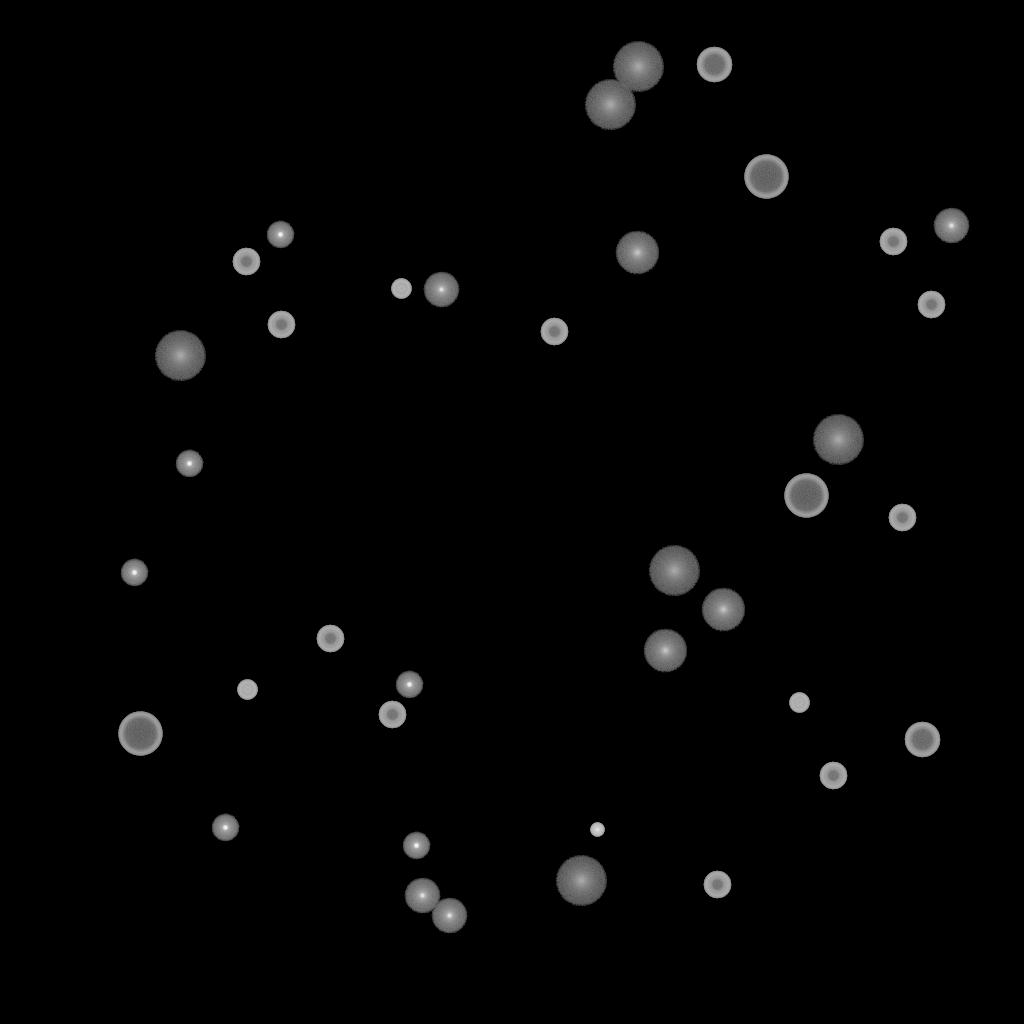depth:-10: (402, 832, 430, 860), (266, 221, 294, 249), (175, 450, 203, 478), (120, 559, 148, 587), (395, 671, 423, 699), (211, 814, 239, 842)
depth:-30: (590, 823, 604, 837)
depth:-40: (789, 693, 809, 713), (237, 680, 257, 700), (391, 279, 411, 299)
depth:-50: (819, 762, 847, 790), (316, 625, 344, 653), (879, 228, 907, 256), (267, 311, 295, 339), (232, 248, 260, 276), (888, 504, 916, 532), (917, 291, 945, 319), (540, 318, 568, 346), (703, 871, 731, 899), (378, 701, 406, 729)
depth:-60: (904, 722, 940, 758), (696, 47, 732, 83)
depth:-70: (118, 712, 162, 756), (744, 155, 788, 199), (784, 474, 828, 518)
depth:0: (404, 878, 440, 914), (933, 208, 969, 244), (431, 898, 467, 934), (423, 272, 459, 308)
depth:10: (701, 588, 745, 632), (643, 629, 687, 673), (615, 231, 659, 275)
depth:20: (154, 331, 206, 381), (812, 415, 864, 465), (584, 80, 636, 130), (555, 856, 607, 906), (648, 546, 700, 596), (612, 42, 664, 92)
